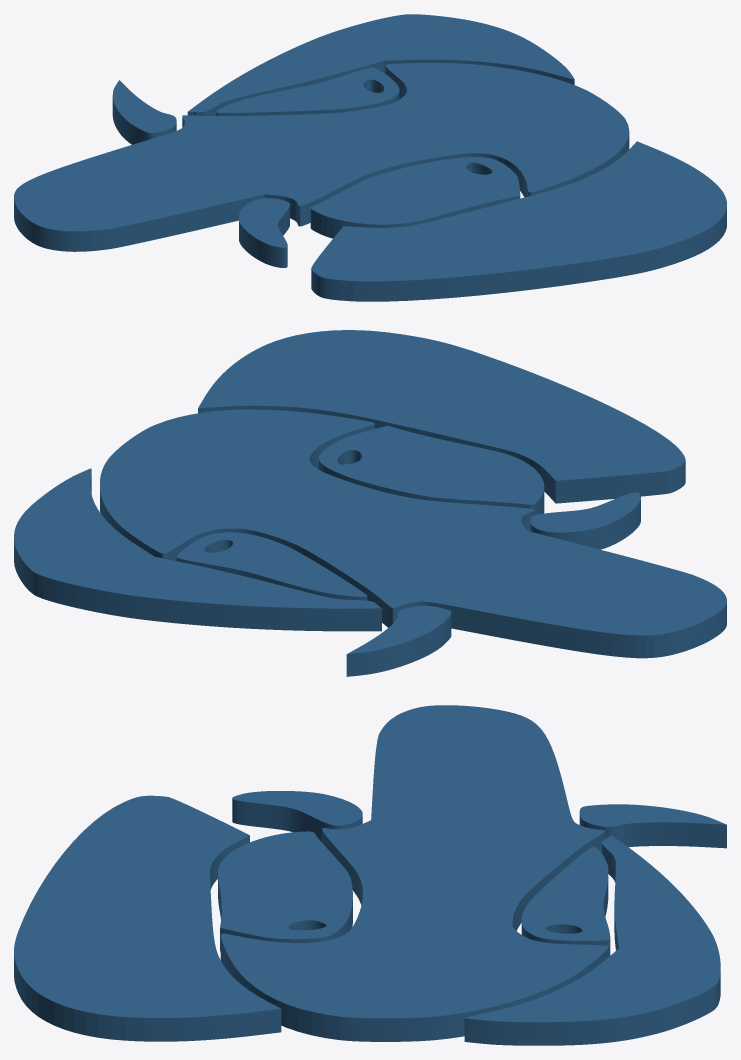
Rendered from postgresql.glb.
3 renders of one model, top to bottom at view 1: azimuth 30°, elevation 25°; view 2: azimuth 150°, elevation 25°; view 3: azimuth 270°, elevation 25°, orthographic. The views are drawn at different scales.
Parts seen in each view (by area): view 1: Curve.002; view 2: Curve.002; view 3: Curve.002.
Part boxes in pixels (x1,y1,x2,y2): Curve.002: [14, 14, 726, 301]; Curve.002: [14, 330, 726, 676]; Curve.002: [14, 705, 726, 1045].
Size of the model in its own units: 3.04 by 0.1052 by 2.88.
